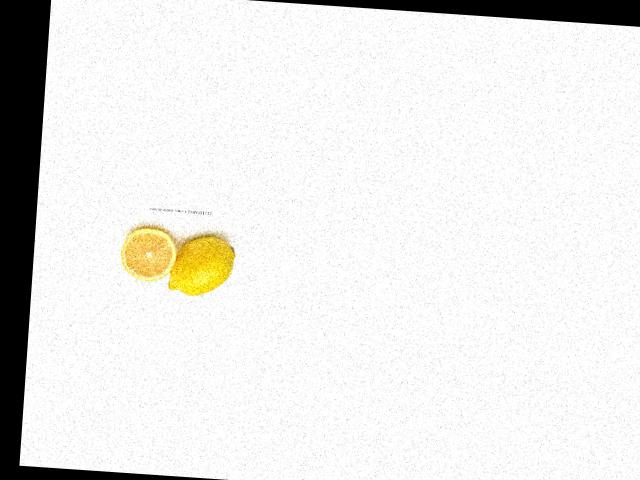lemon: (166, 231, 241, 298)
